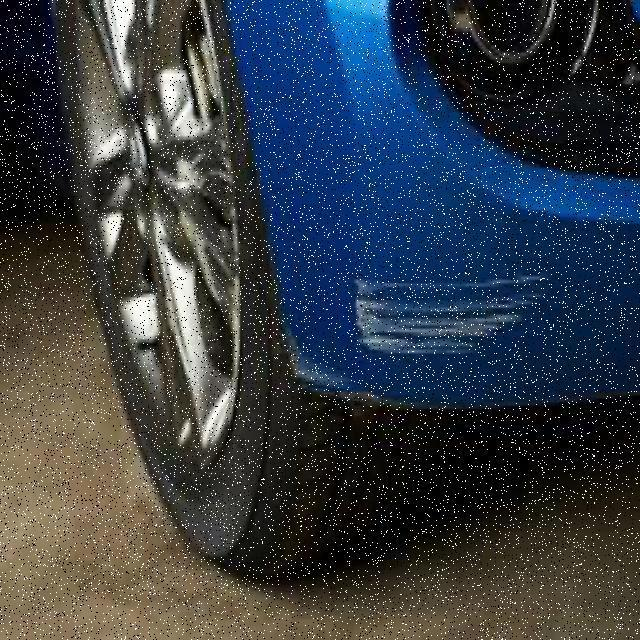front-bumper-dent: (221, 7, 638, 462)
